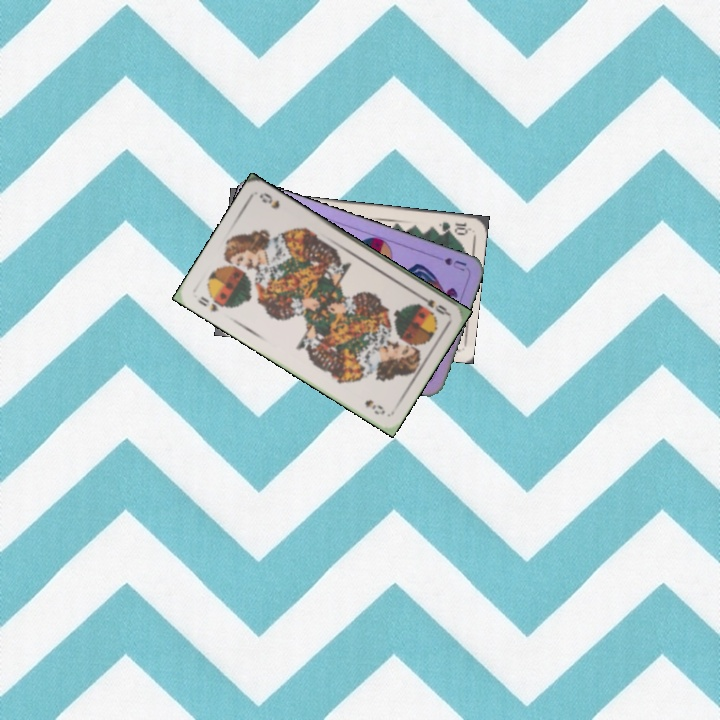G10: (435, 218, 472, 237)
SO: (414, 291, 451, 318), (194, 292, 226, 315)
SU: (429, 251, 469, 274)
